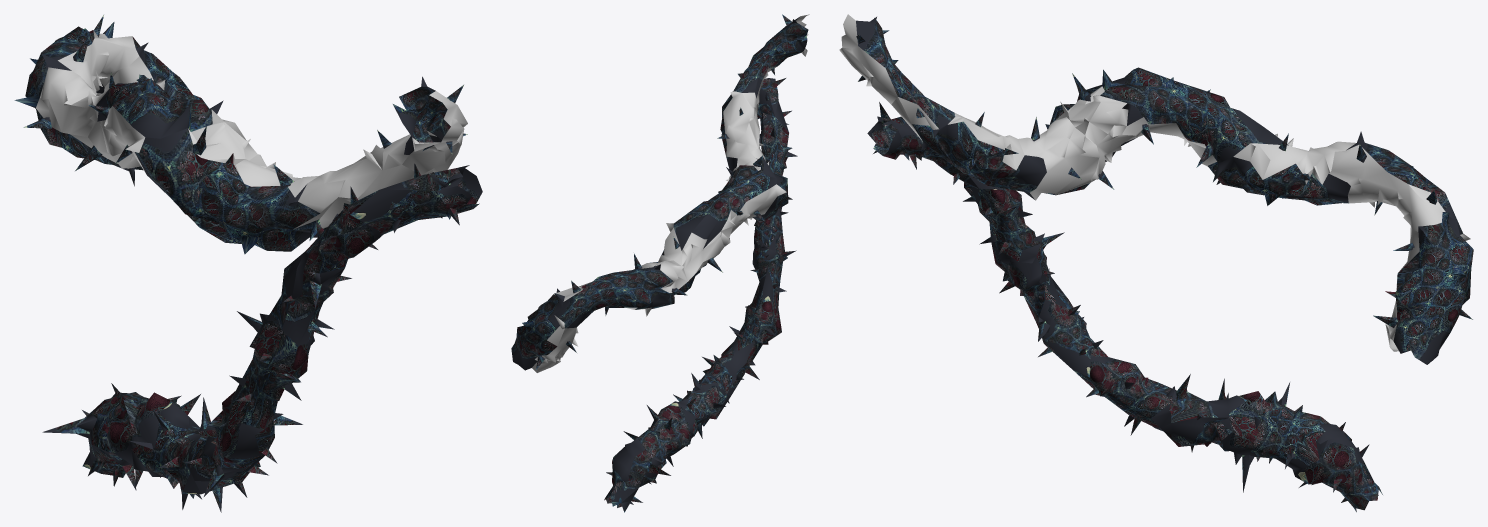
File: 02_16_makaizyu_06.fbx
3 views of the same model, side by side, from view 1: azimuth 30°, elevation 25°; view 2: azimuth 150°, elevation 25°; view 3: azimuth 270°, elevation 25° (orthographic). The views are drawn at different scales.
Visible parts, largest first — view 1: LODGroup_3_MainMesh_1_SubMesh_1, LODGroup_3_MainMesh_1_SubMesh_2, LODGroup_3_MainMesh_1_SubMesh_3; view 2: LODGroup_3_MainMesh_1_SubMesh_1, LODGroup_3_MainMesh_1_SubMesh_2, LODGroup_3_MainMesh_1_SubMesh_3; view 3: LODGroup_3_MainMesh_1_SubMesh_2, LODGroup_3_MainMesh_1_SubMesh_1, LODGroup_3_MainMesh_1_SubMesh_3.
Boxes of the visible parts, <box> form: LODGroup_3_MainMesh_1_SubMesh_1: <box>42,163,482,512</box>; LODGroup_3_MainMesh_1_SubMesh_2: <box>14,15,467,254</box>; LODGroup_3_MainMesh_1_SubMesh_3: <box>36,30,467,229</box>; LODGroup_3_MainMesh_1_SubMesh_1: <box>604,78,797,512</box>; LODGroup_3_MainMesh_1_SubMesh_2: <box>511,14,808,370</box>; LODGroup_3_MainMesh_1_SubMesh_3: <box>532,14,809,372</box>; LODGroup_3_MainMesh_1_SubMesh_2: <box>856,17,1473,364</box>; LODGroup_3_MainMesh_1_SubMesh_1: <box>867,102,1382,512</box>; LODGroup_3_MainMesh_1_SubMesh_3: <box>839,14,1470,351</box>.
Bounding box in the file's own units: 718 × 1469 × 1705.
